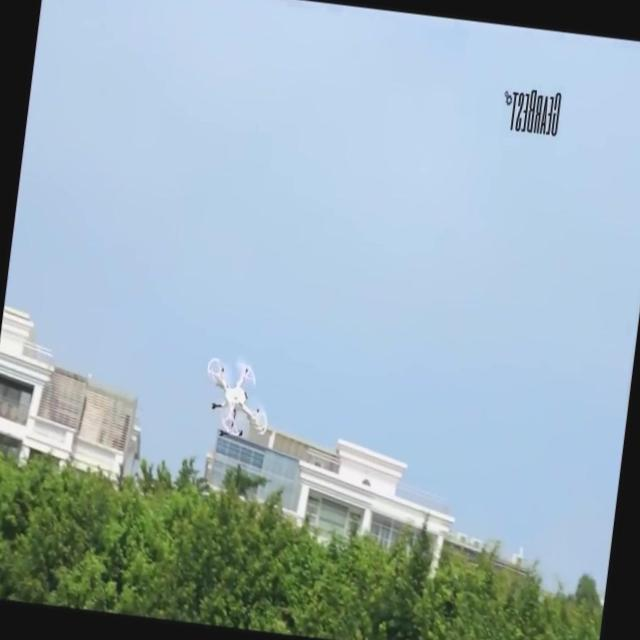drone: (198, 358, 276, 442)
